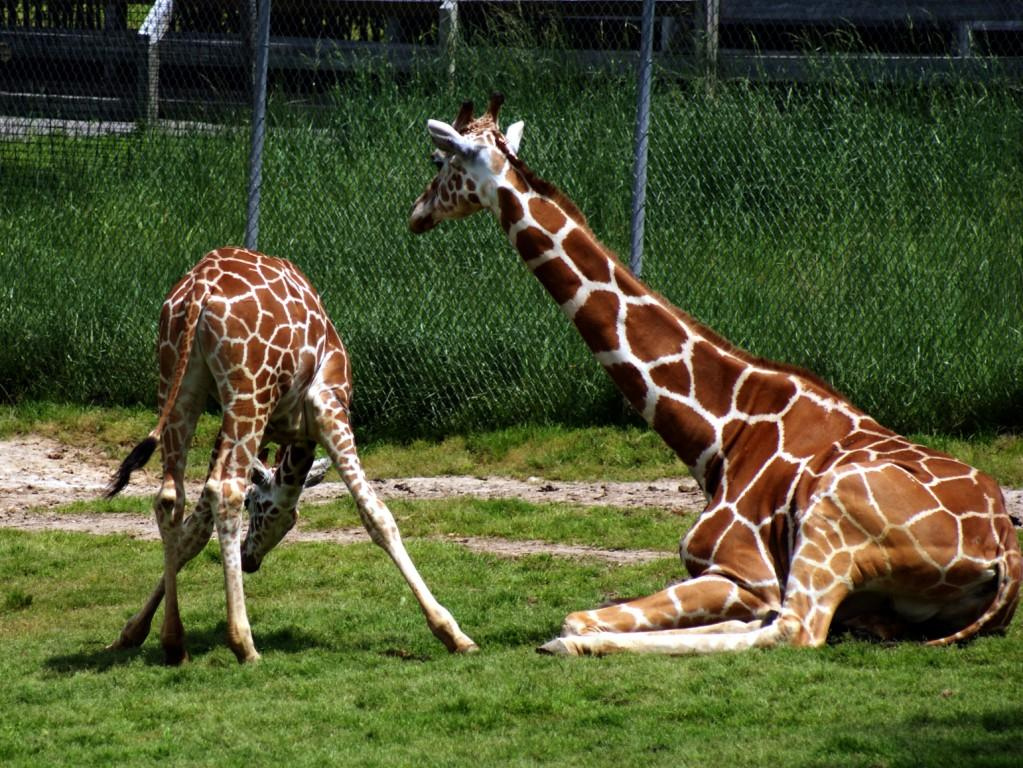giraffe: (377, 98, 1007, 679), (109, 236, 489, 688)
